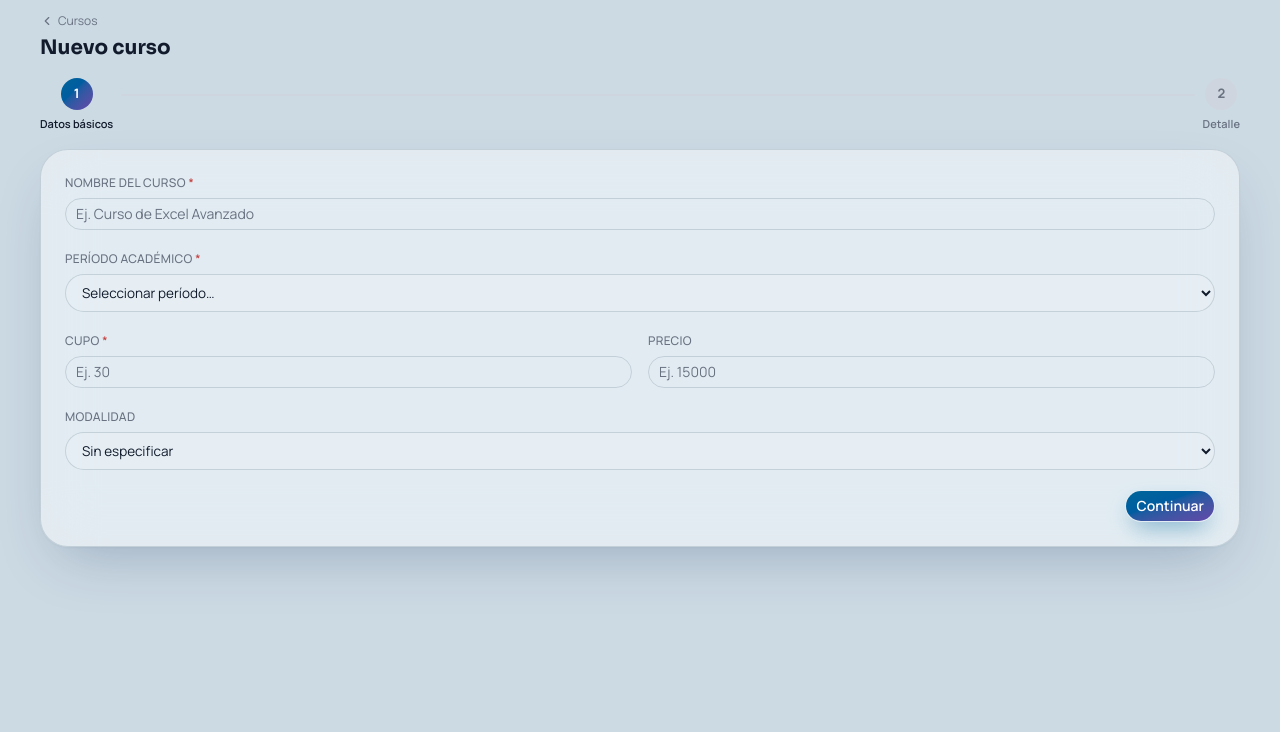
Test: CursoWizard › rejects a registration window that closes before it opens
Type "Excel avanzado" into the field with placeholder "Ej. Curso de Excel Avanzado".
click(640, 214); type("Excel avanzado")  # box [65,198,1215,230]
Select "2027 — Anual" in the dropdown below "Período académico" at [640, 292], box [65,274,1215,312]
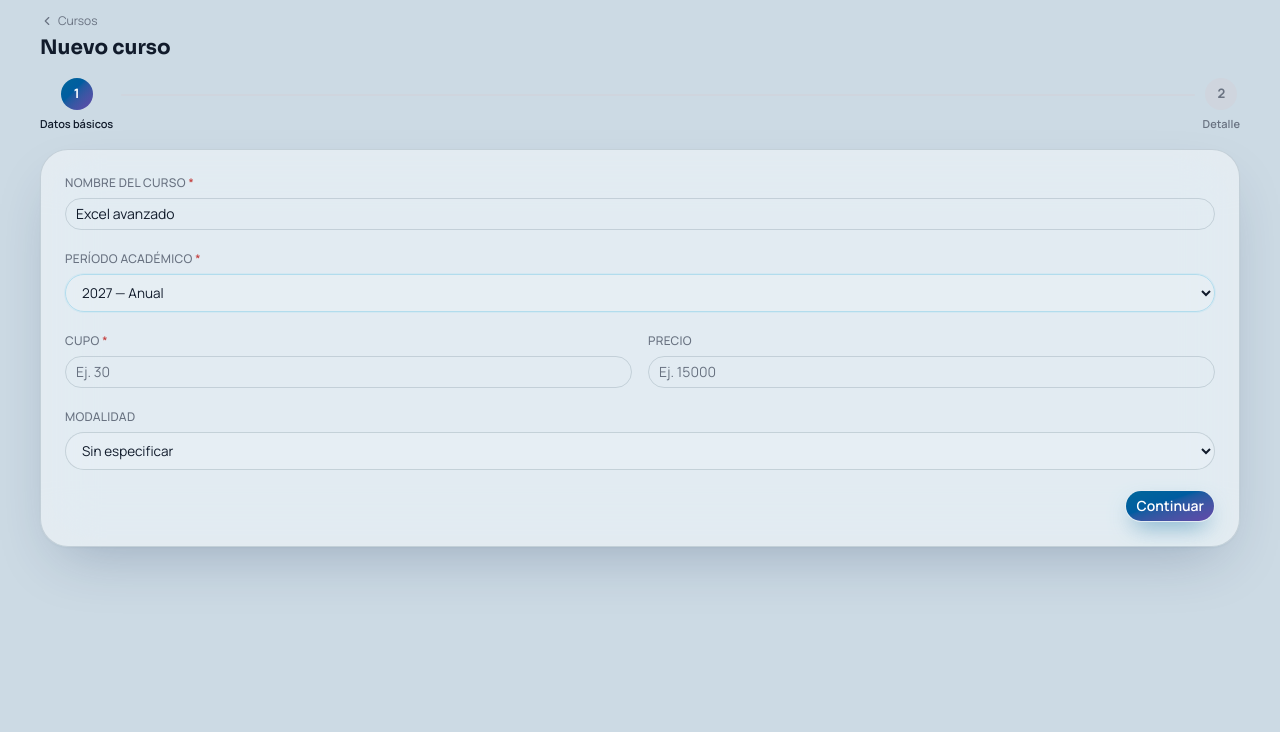
Type "20" into the number field with placeholder "Ej. 30".
click(348, 372); type("20")  # box [65,356,632,388]
Click the button "Continuar".
click(1170, 506)  # box [1125,490,1215,522]
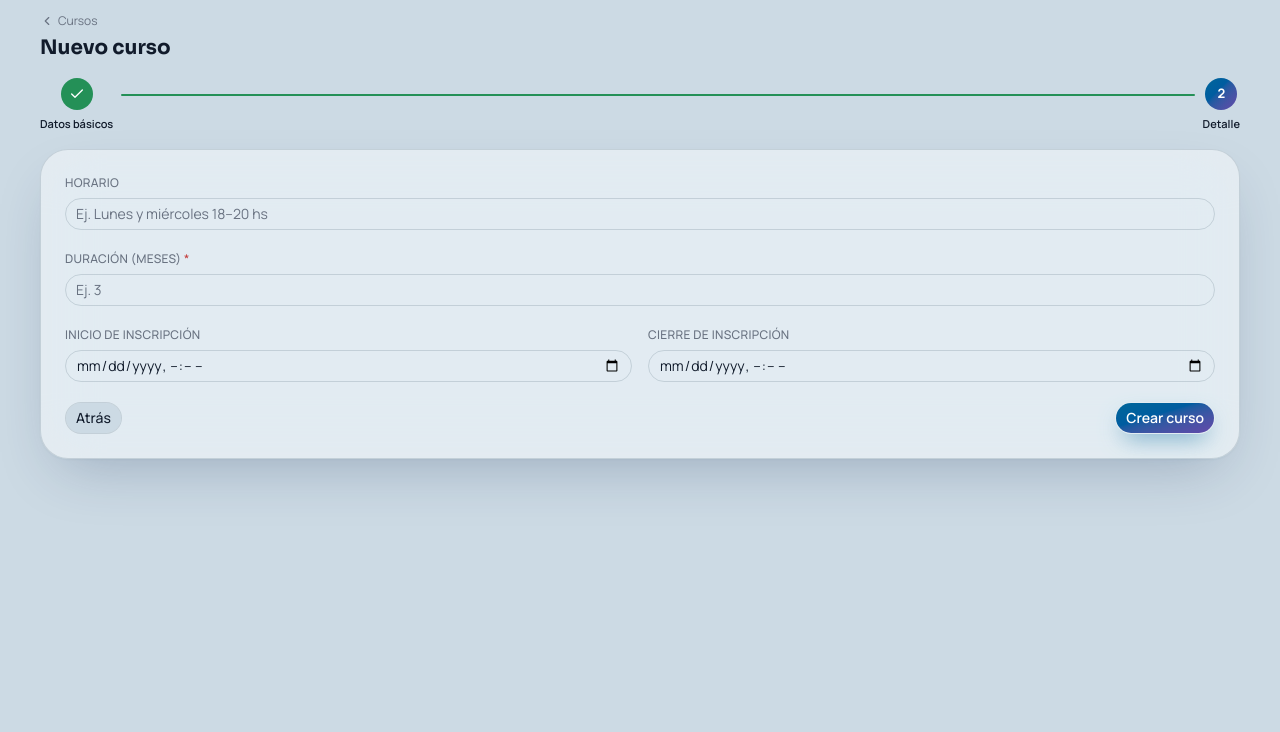
Type "3" into the number field with placeholder "Ej. 3".
click(640, 290); type("3")  # box [65,274,1215,306]
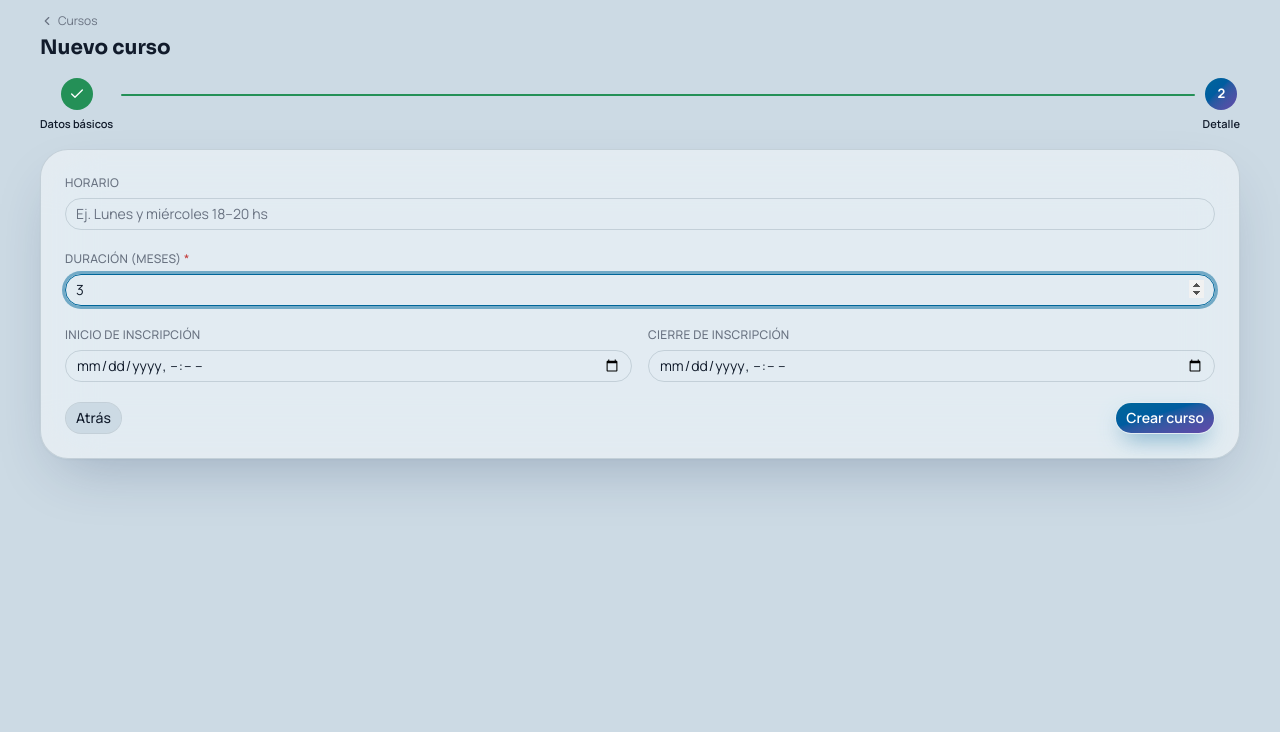
Type "2027-02-10T00:00" into the field below "Inicio de inscripción".
click(348, 366); type("2027-02-10T00:00")  # box [65,350,632,382]
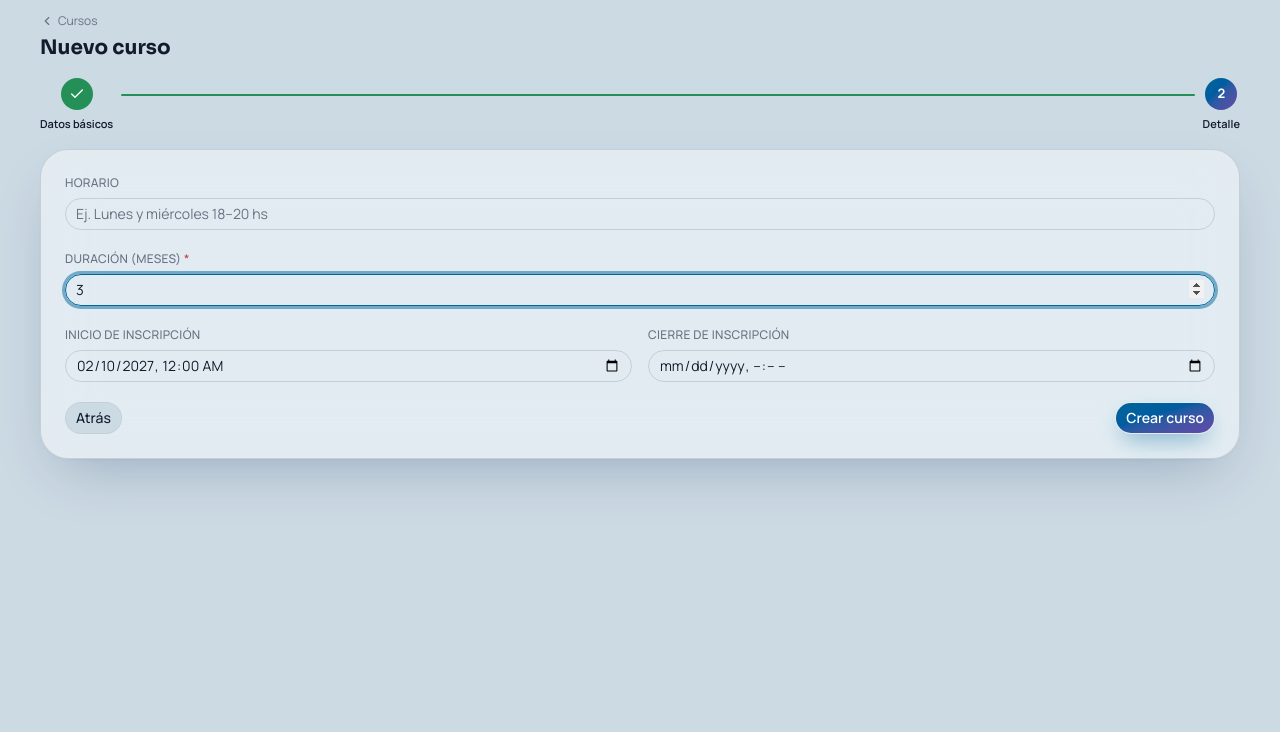
Type "2027-01-10T00:00" into the field below "Cierre de inscripción".
click(932, 366); type("2027-01-10T00:00")  # box [648,350,1215,382]
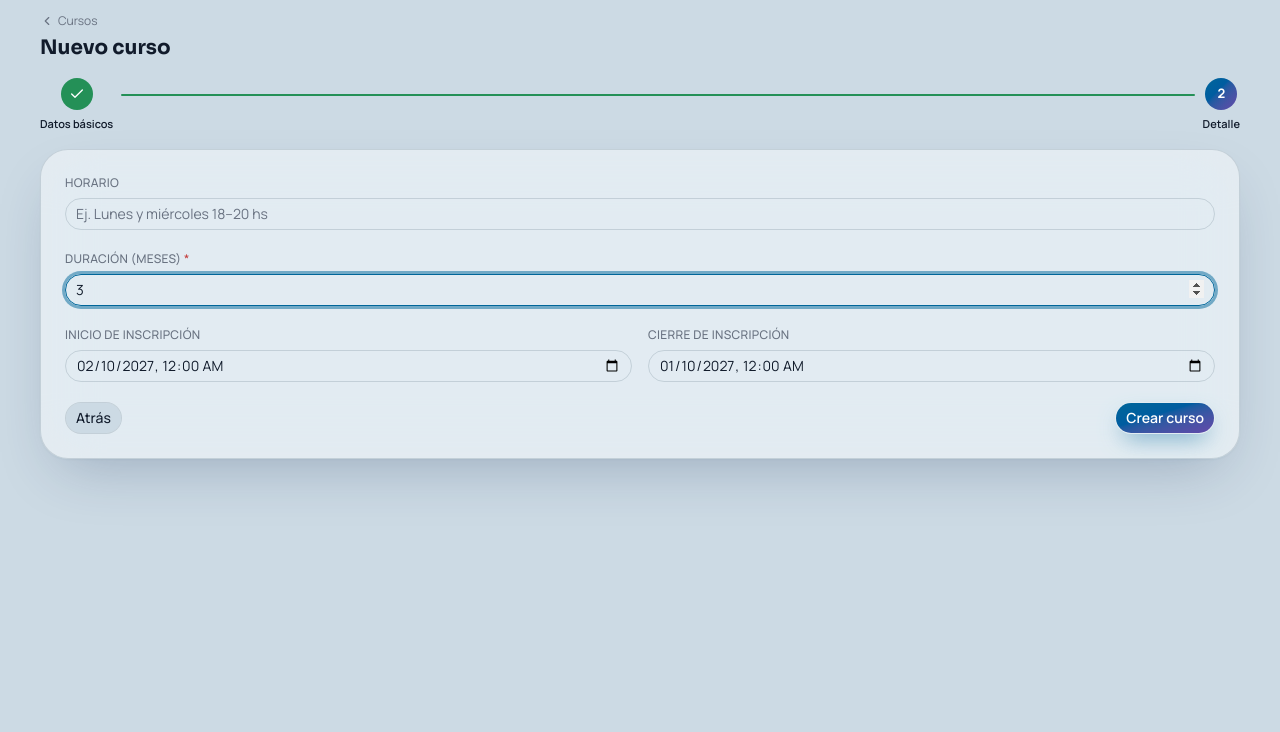
Click the button "Crear curso".
click(1165, 418)  # box [1115,402,1215,434]
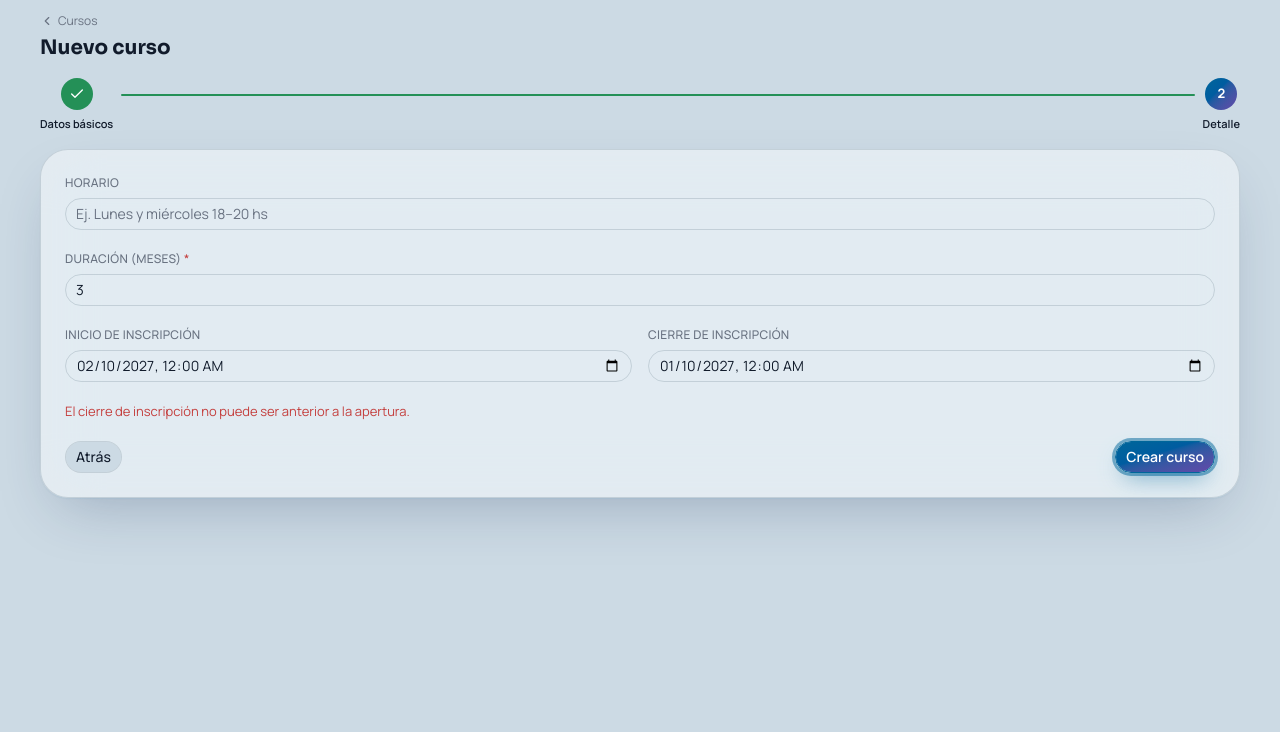
Check: the text "El cierre de inscripción no puede ser anterior a la apertura." is shown, box [65,402,410,420]
